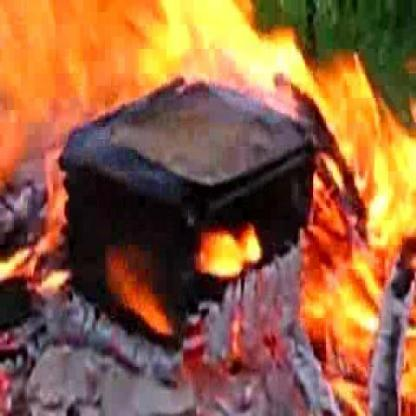fire: (0, 1, 413, 406)
